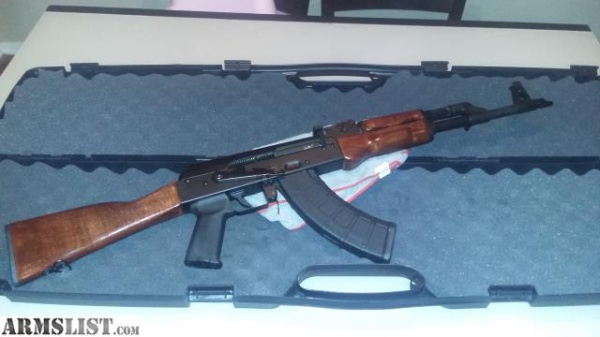ak47: (14, 80, 552, 289)
